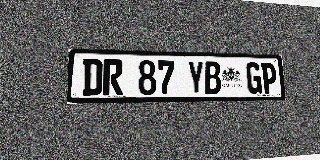7: (157, 61, 175, 95)
8: (138, 60, 157, 95)
B: (204, 62, 222, 94)
D: (82, 59, 103, 96)
G: (246, 62, 262, 94)
P: (261, 63, 277, 94)
R: (103, 59, 123, 95)
Y: (187, 61, 205, 94)
